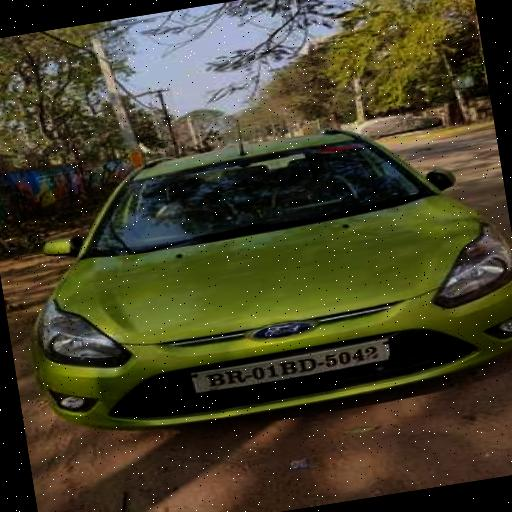license_plate`: (186, 337, 389, 392)
